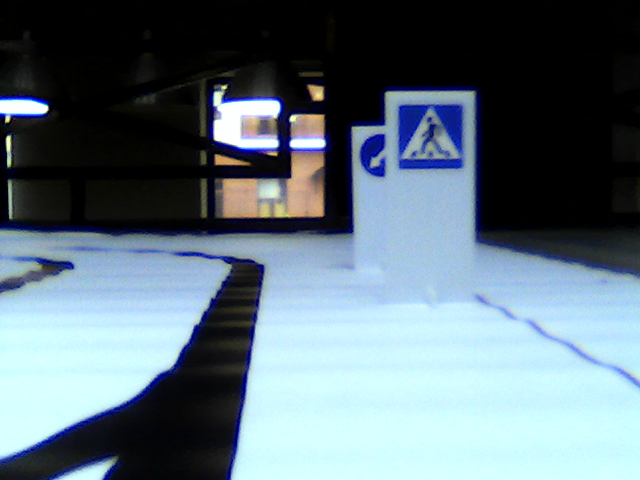pesh: (398, 105, 469, 169)
